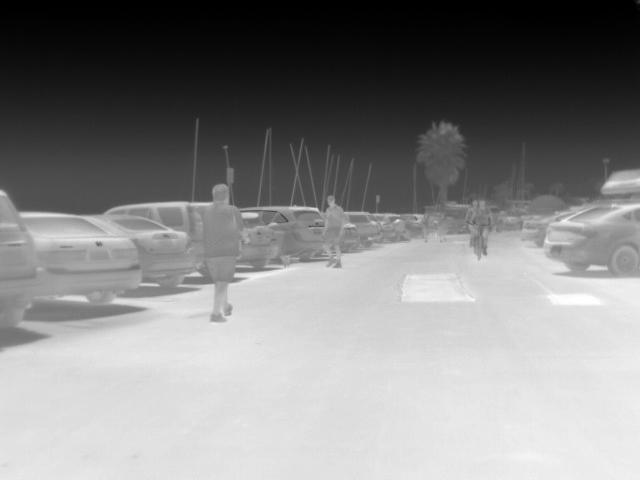car: (15, 207, 143, 304), (543, 199, 640, 278), (91, 214, 194, 288), (1, 187, 45, 332), (236, 204, 325, 262), (101, 199, 214, 243), (233, 222, 285, 271), (518, 207, 578, 248), (341, 209, 383, 249), (600, 166, 640, 197), (373, 212, 405, 241)
dog: (279, 251, 298, 268)
person: (196, 183, 248, 322), (319, 194, 348, 269), (472, 198, 494, 255), (463, 198, 480, 233), (435, 211, 450, 237), (421, 209, 435, 236)
